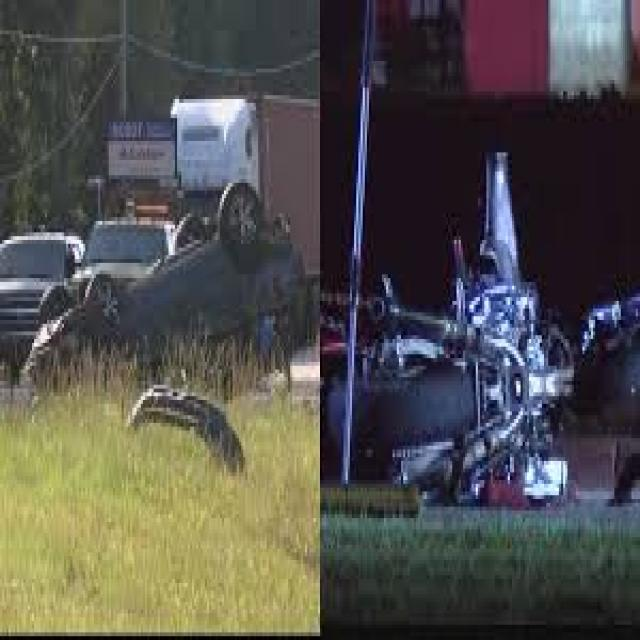accident: (33, 230, 306, 443)
